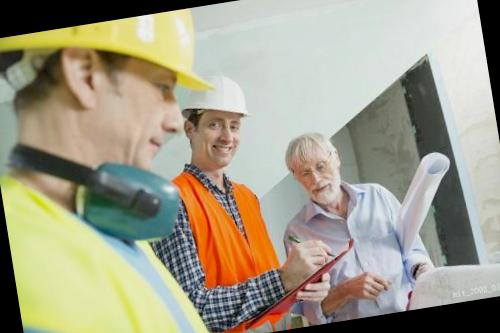no_helmet: (278, 128, 350, 208)
